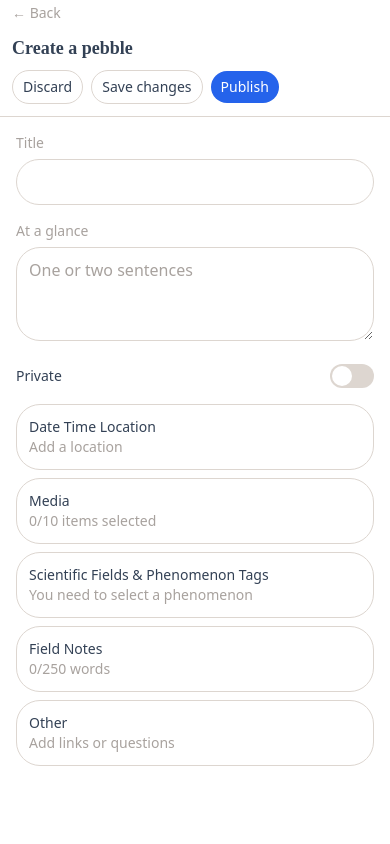
Test: PebbleForm › stamps the time a draft was saved
In the field labelled "Title": (195, 182) left=16, top=159, right=374, bottom=205, type "Shelf"
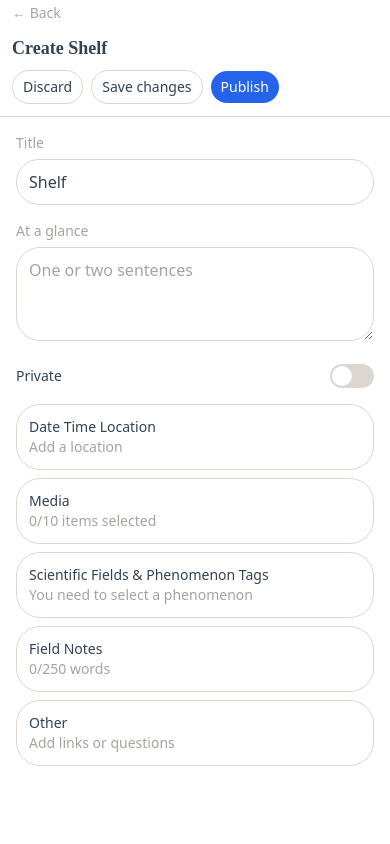
Click the button "Save changes": (147, 87) left=91, top=70, right=202, bottom=104
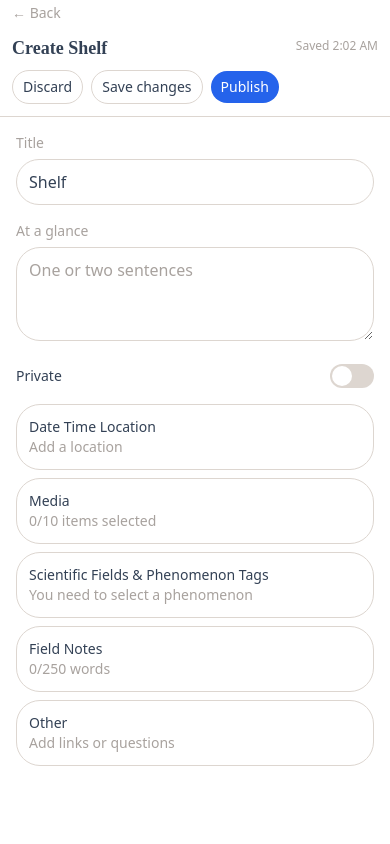
Expected: the text with test id "form-saved-at" reads "Saved 2:02 AM", left=296, top=37, right=378, bottom=54
